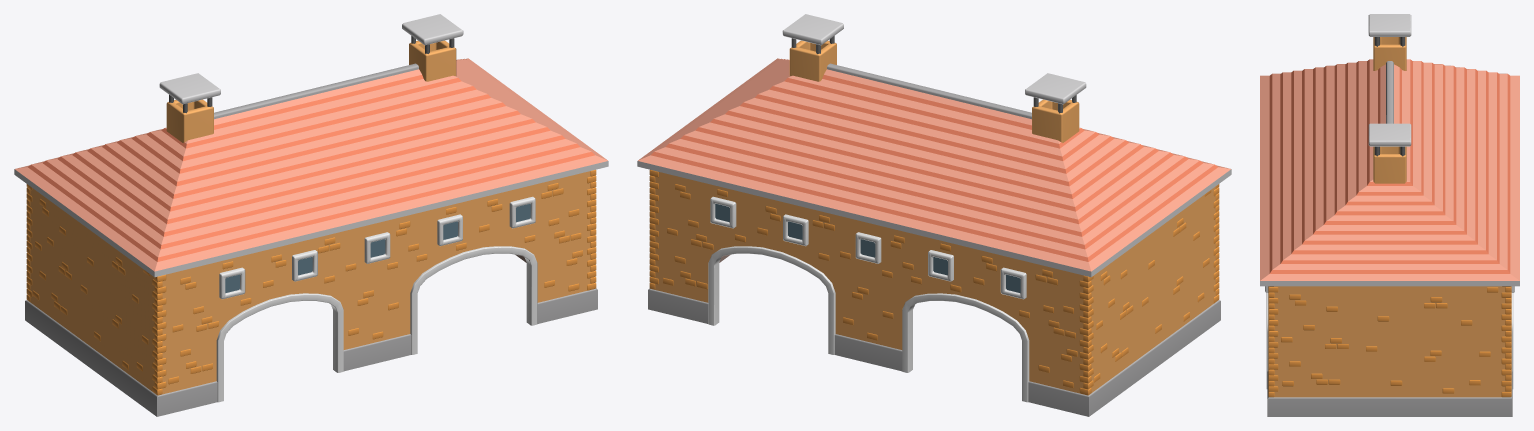
File: building_001.gltf
3 views of the same model, side by side, from view 1: azimuth 30°, elevation 25°; view 2: azimuth 150°, elevation 25°; view 3: azimuth 270°, elevation 25° (orthographic). The views are drawn at different scales.
Parts seen in each view (by area): view 1: building_001; view 2: building_001; view 3: building_001.
Boxes of the visible parts, bbox=[...] form: building_001: bbox=[14, 14, 608, 416]; building_001: bbox=[637, 14, 1231, 416]; building_001: bbox=[1260, 14, 1519, 416].
Bounding box in the file's own units: 18.75 × 10.22 × 10.02.
1 material, 1 textured.
